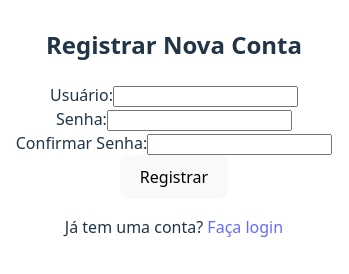
Scenario: RegistrationPage › should display an error message if passwords do not match
In the field labelled "Usuário:": (206, 97) [113, 86, 298, 107], type "testuser"
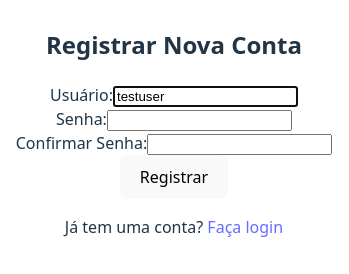
In the password field labelled "Senha:": (199, 121) [107, 110, 292, 131], type "password123"
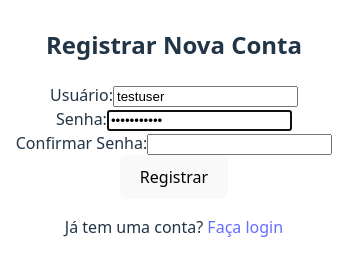
In the password field labelled "Confirmar Senha:": (240, 145) [147, 134, 332, 155], type "password456"
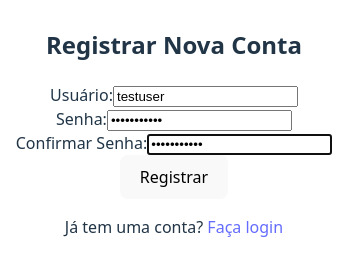
Click the button "Registrar": (174, 177) [120, 155, 228, 198]
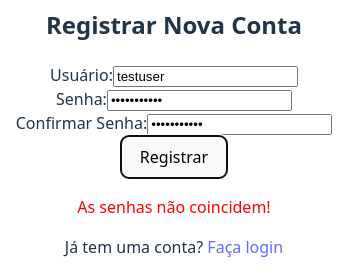
Expected: the text "As senhas não coincidem!" is shown, [77, 196, 271, 218]
